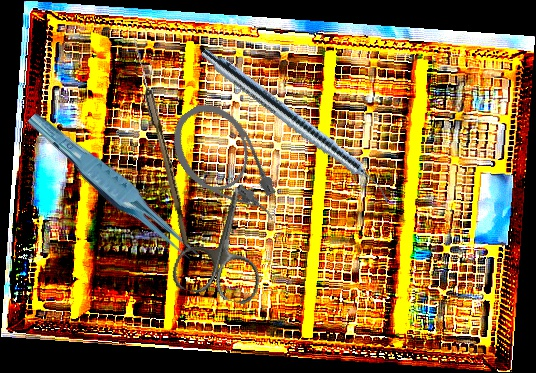Cannula: (158, 91, 294, 245)
Handpiece: (195, 44, 398, 205)
Iris Scissors: (168, 177, 281, 307)
Surgical Spoon: (128, 36, 194, 246)
Tissue Forceps: (25, 99, 203, 278)
